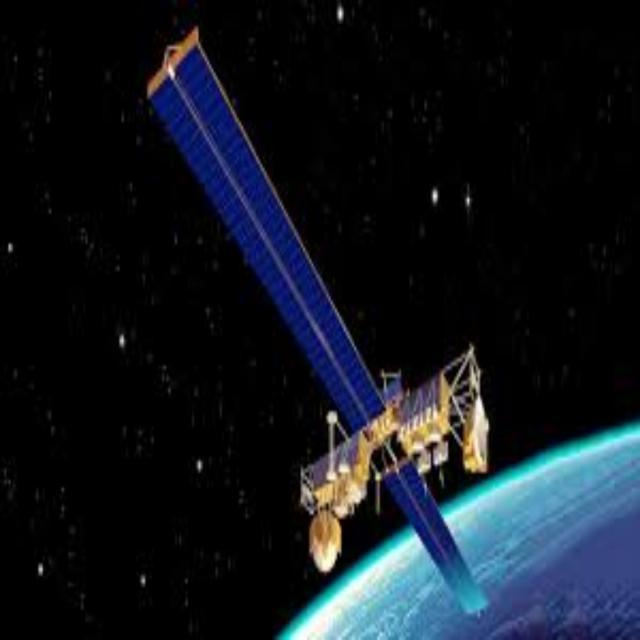sat: (141, 30, 497, 616)
